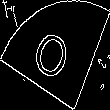O_SW: (32, 22, 78, 88)
